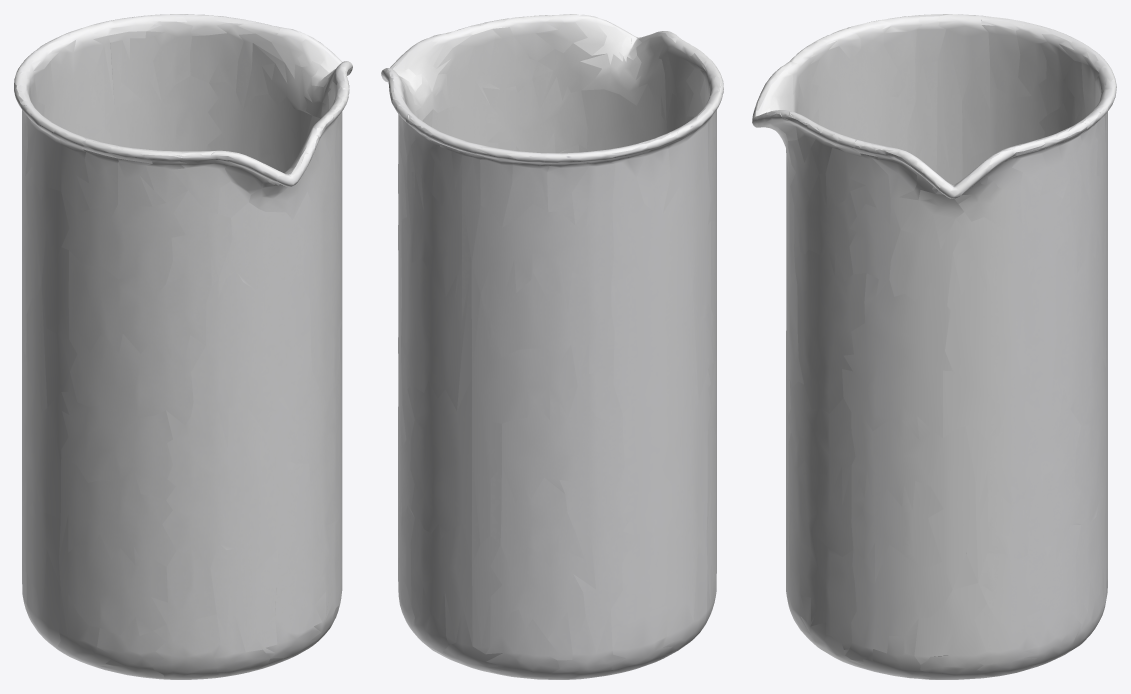
File: Meshy_AI_Glass_Beaker_Remesh_0924171024_texture.glb
The picture shows the model from 3 angles, left to right: view 1: azimuth 30°, elevation 25°; view 2: azimuth 150°, elevation 25°; view 3: azimuth 270°, elevation 25°; orthographic projection.
Visible parts, largest first — view 1: output_unwrapped; view 2: output_unwrapped; view 3: output_unwrapped.
Boxes of the visible parts, box(x1,y1,x2,y2) form: output_unwrapped: box(14, 14, 352, 679); output_unwrapped: box(381, 14, 723, 679); output_unwrapped: box(752, 14, 1116, 679).
Size of the model in its own units: 1.16 by 1.9 by 1.16.
Materials: 1 (1 with a texture image).
